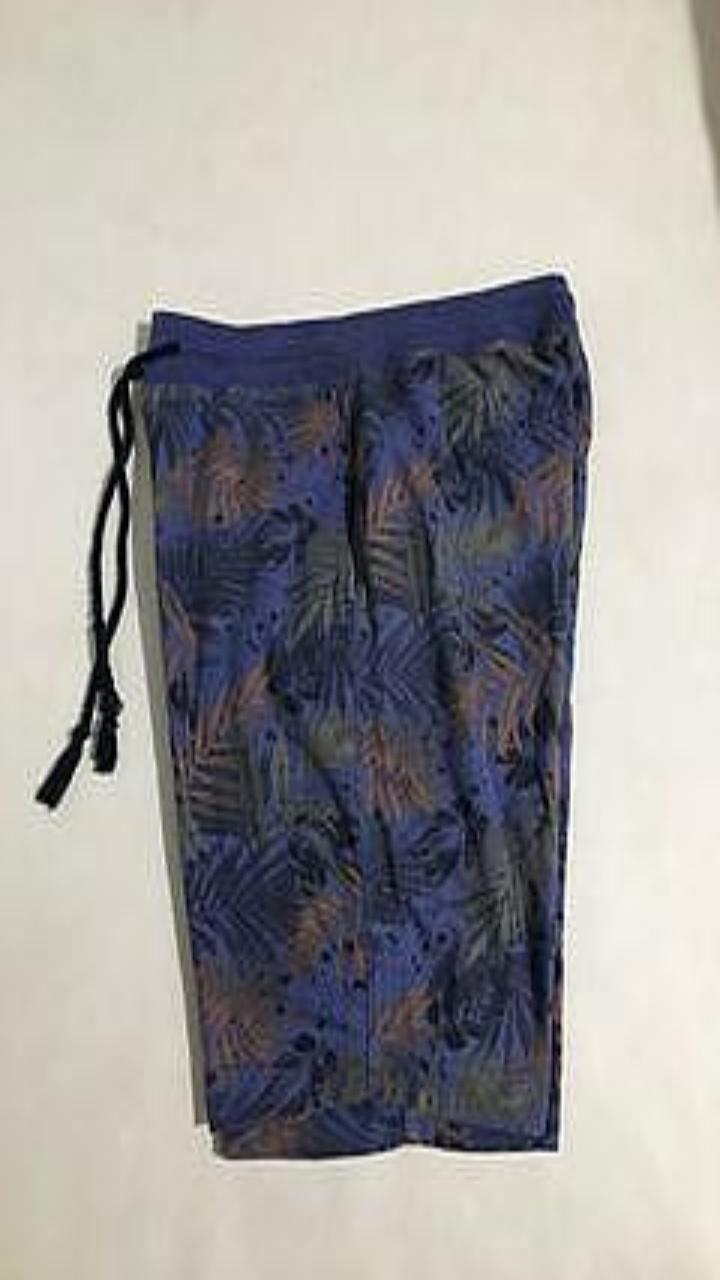Shorts: (134, 274, 591, 1157)
